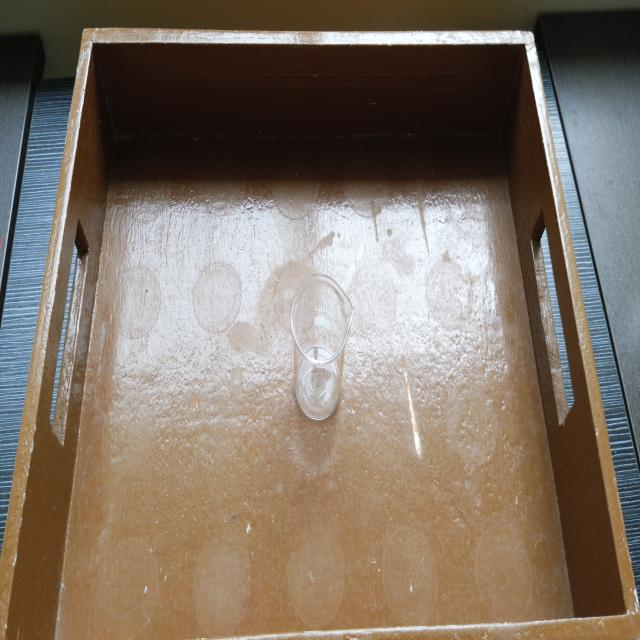beaker: (288, 267, 358, 429)
